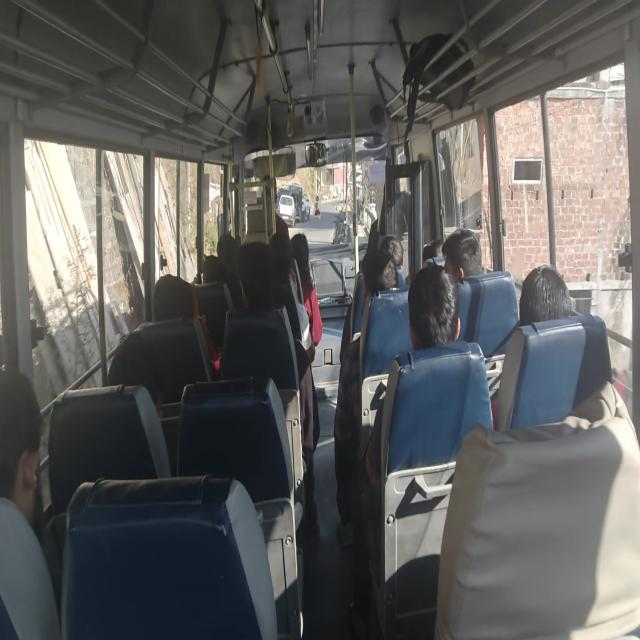person: (434, 381, 639, 638), (353, 262, 493, 634), (221, 239, 319, 532), (492, 264, 632, 434), (364, 263, 462, 484), (334, 247, 399, 546), (0, 365, 61, 638), (107, 273, 218, 416), (152, 274, 220, 376), (0, 365, 42, 530), (339, 247, 398, 364), (268, 231, 316, 363), (408, 264, 462, 350), (290, 232, 322, 346), (518, 264, 572, 326), (441, 227, 483, 279), (361, 248, 398, 294), (378, 234, 406, 287), (216, 232, 240, 274)
